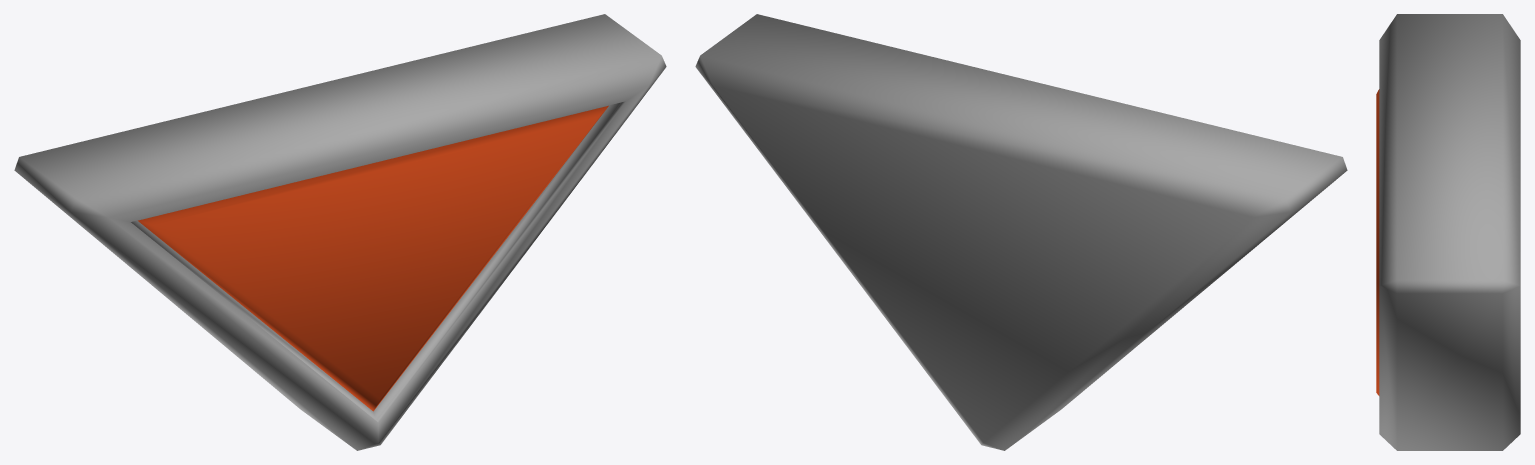
Rendered from indica1.glb.
The picture shows the model from 3 angles, left to right: view 1: azimuth 30°, elevation 25°; view 2: azimuth 150°, elevation 25°; view 3: azimuth 270°, elevation 25°; orthographic projection. The views are drawn at different scales.
Visible parts, largest first — view 1: Cylinder; view 2: Cylinder; view 3: Cylinder.
Boxes of the visible parts, x1,y1,x2,y2 form: Cylinder: (14,14,666,450); Cylinder: (695,14,1347,450); Cylinder: (1376,14,1520,450).
Size of the model in its own units: 2.44 by 1.26 by 0.5514.
